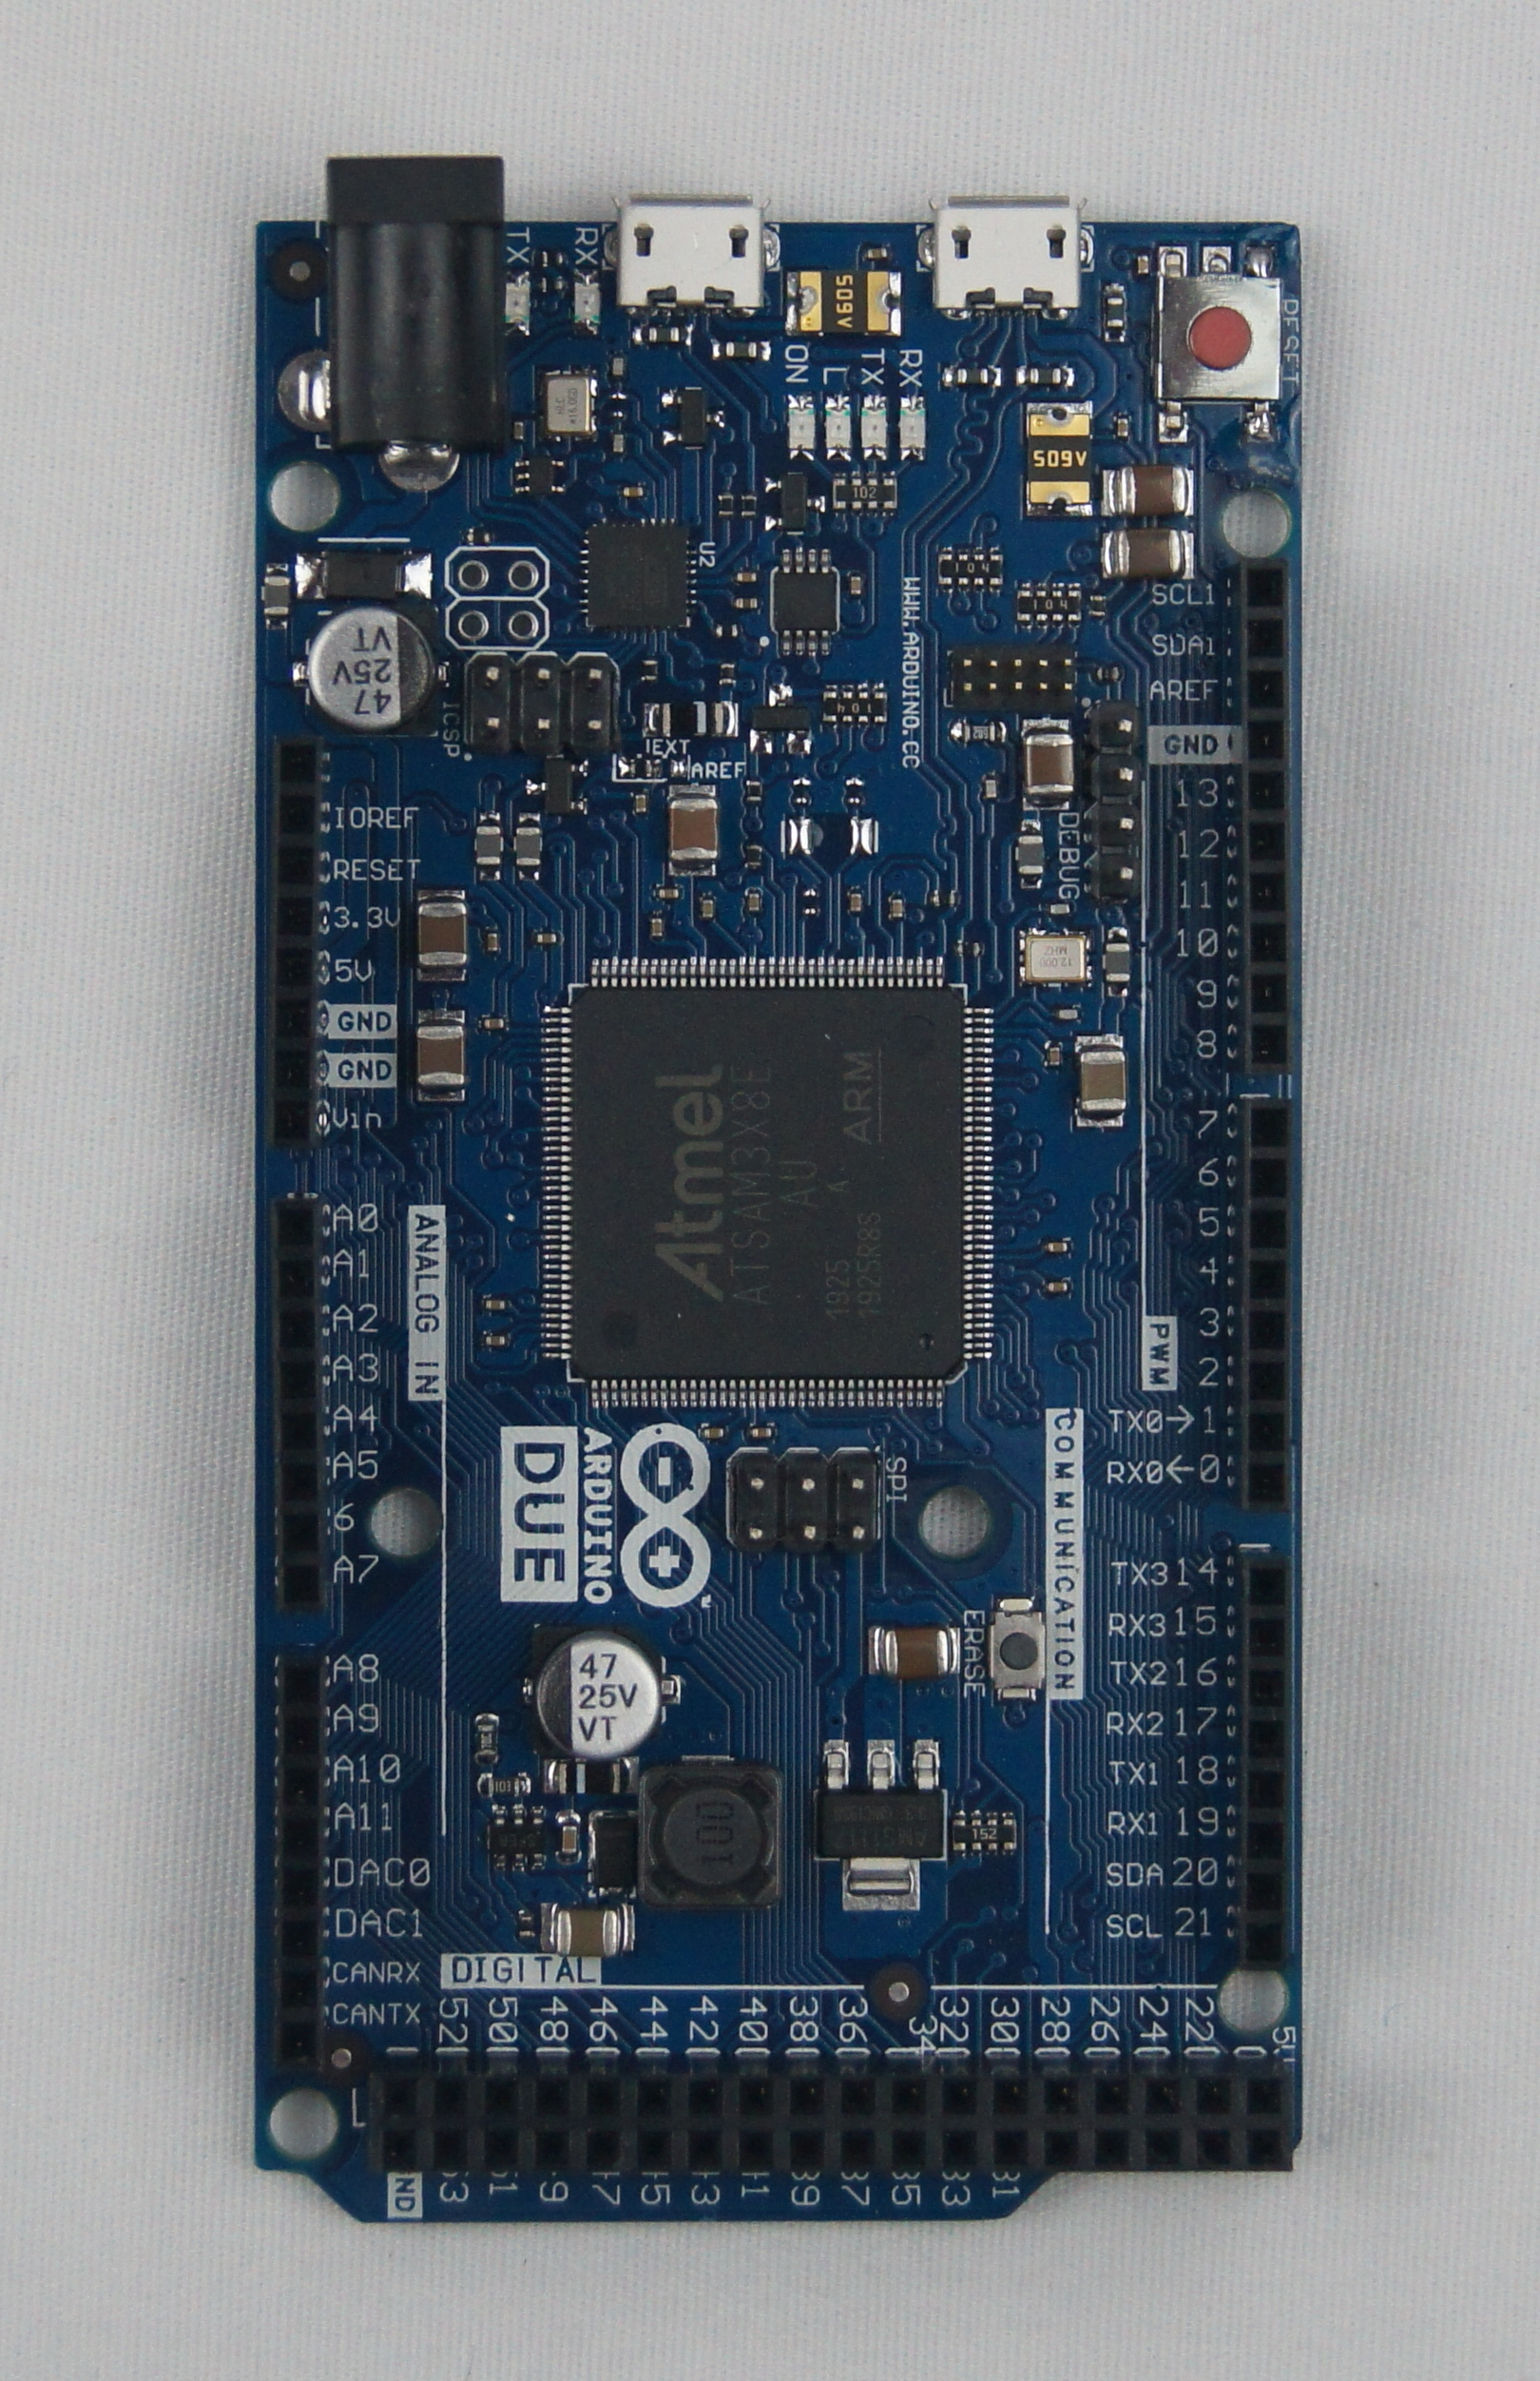kondensator: (515, 1619, 680, 1758), (293, 609, 437, 729), (411, 889, 467, 986), (1101, 529, 1197, 578), (416, 1013, 463, 1105), (1075, 1040, 1124, 1128), (1023, 722, 1073, 807), (872, 1626, 957, 1675), (1101, 469, 1190, 514), (671, 788, 713, 875), (551, 1909, 628, 1956), (475, 819, 499, 875), (260, 574, 290, 620), (513, 821, 538, 875), (1018, 833, 1042, 880), (560, 1819, 576, 1857), (1112, 410, 1131, 437), (734, 569, 763, 587), (848, 573, 865, 600), (619, 482, 649, 498), (1044, 1279, 1070, 1296), (734, 594, 761, 609), (510, 418, 527, 443), (480, 930, 498, 954), (846, 890, 864, 915), (480, 1335, 510, 1348), (649, 913, 664, 939), (1044, 1043, 1061, 1066), (888, 897, 902, 922), (701, 1427, 725, 1440), (1136, 255, 1152, 276), (484, 1015, 506, 1029), (531, 932, 555, 944), (635, 791, 649, 812), (749, 889, 761, 911), (1046, 1241, 1068, 1253), (659, 887, 680, 899), (749, 1427, 773, 1437), (482, 1298, 503, 1309), (702, 897, 709, 918)
